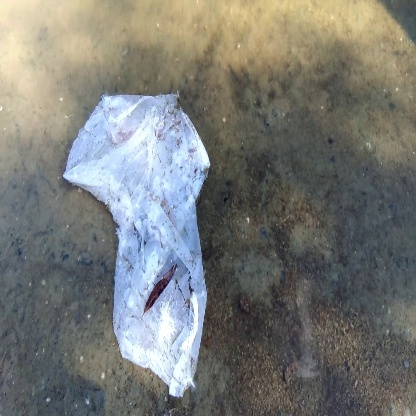plastic-bag: (56, 89, 226, 394)
